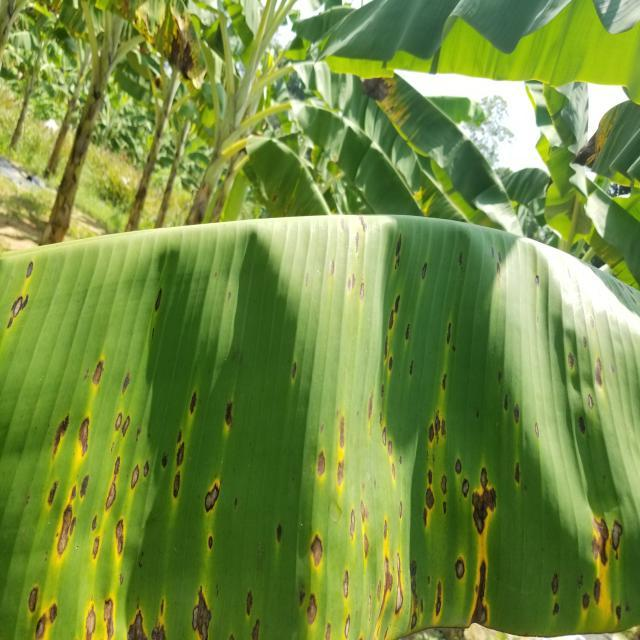Early_rust: (0, 204, 640, 640), (293, 51, 439, 160), (125, 0, 223, 121), (531, 102, 640, 198)
